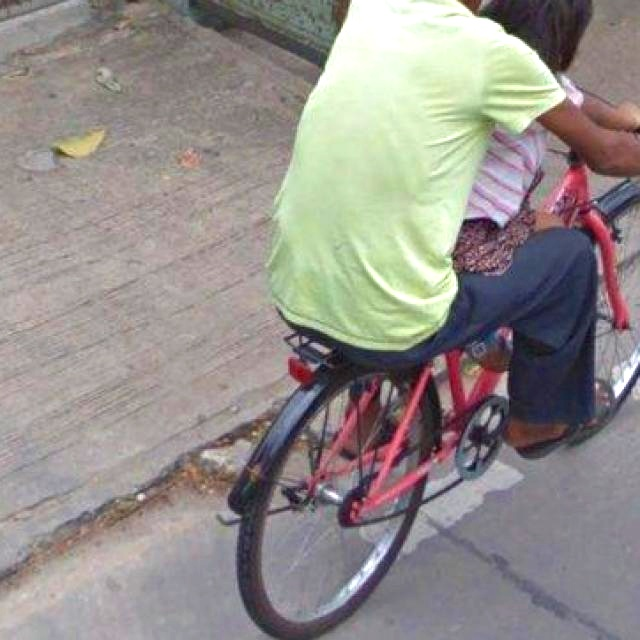bicycle: (131, 59, 640, 637)
